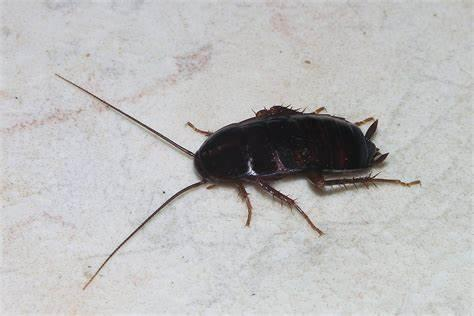cockroach: (184, 104, 390, 196)
